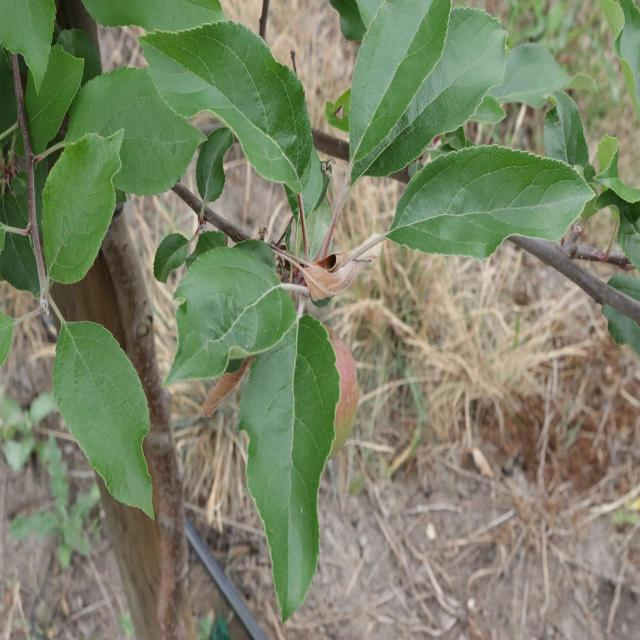-FireBlight-: (280, 238, 384, 294)
